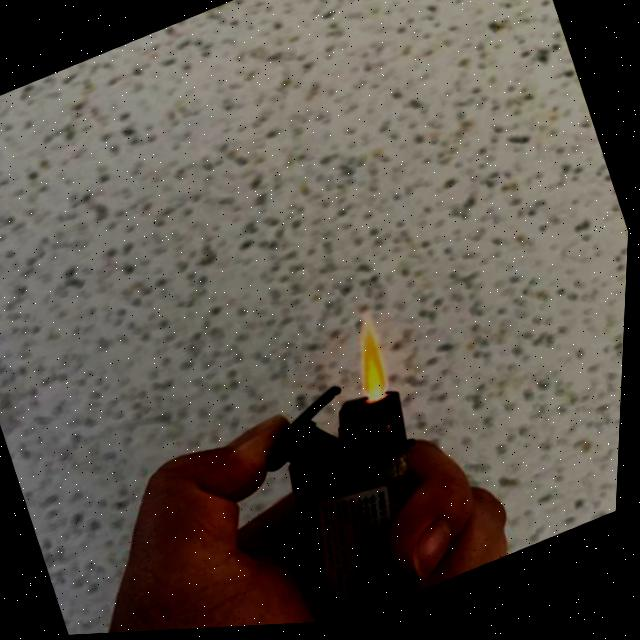Fire: (344, 325, 399, 403)
